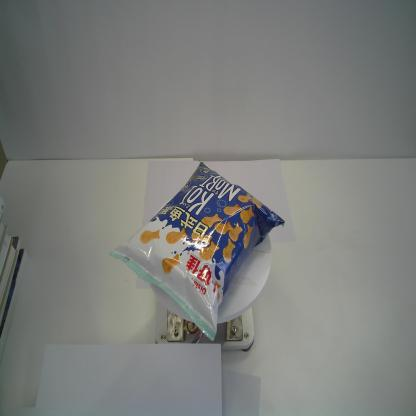Puffed Food: (108, 160, 286, 342)
